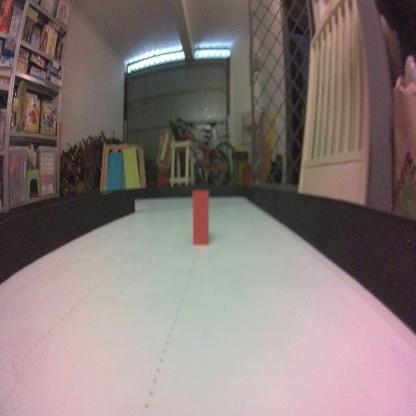red: (192, 190, 210, 246)
